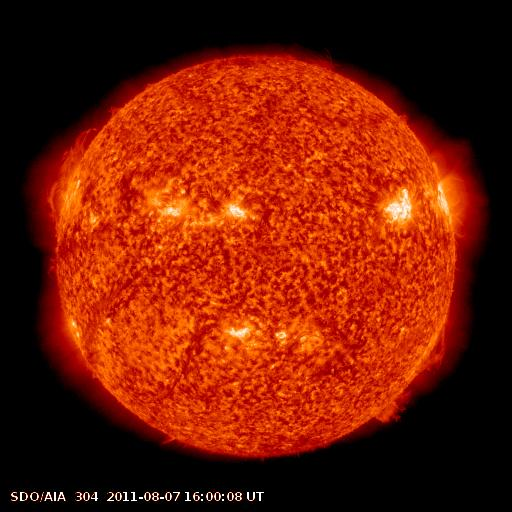prominence: (364, 317, 454, 427), (36, 122, 103, 220)
